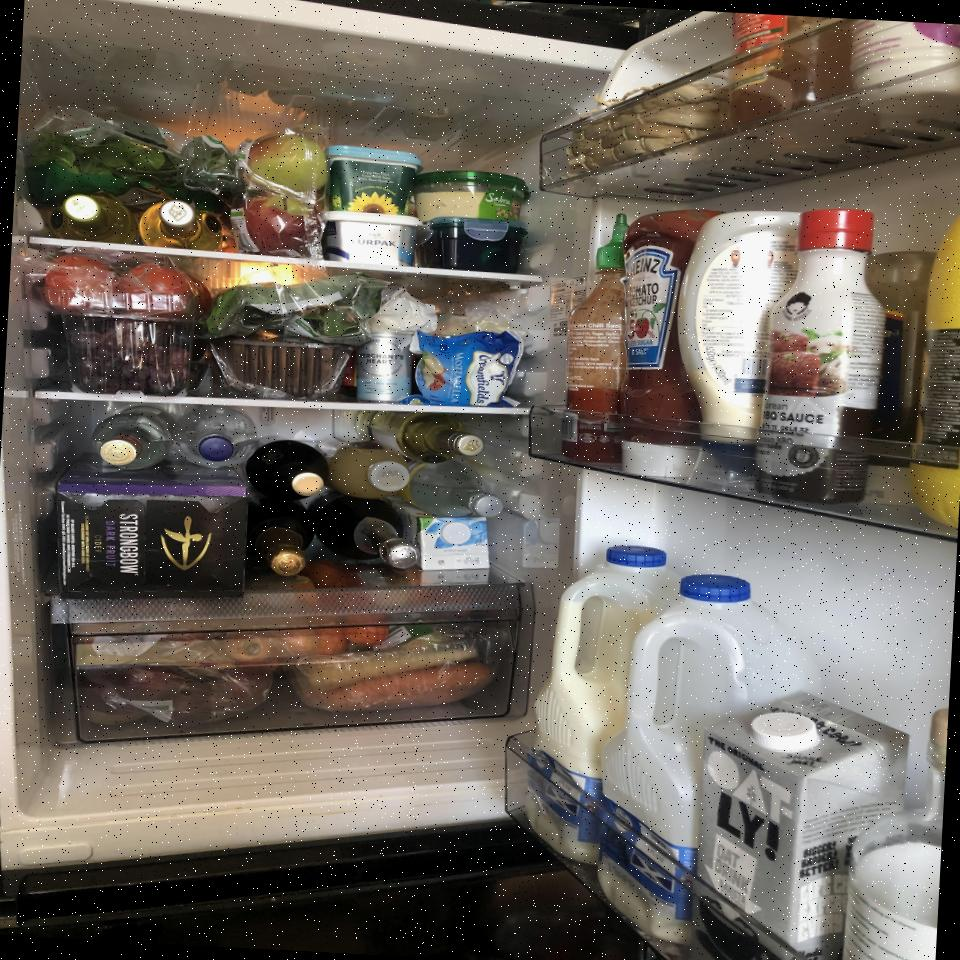Leche: (590, 570, 824, 948), (685, 687, 910, 960), (526, 542, 682, 868)
Manzana: (245, 131, 331, 199), (234, 195, 322, 259)
Tomate: (26, 250, 214, 321)
Zanahoria: (304, 654, 496, 718), (224, 625, 318, 666)
ketchup: (610, 206, 726, 477)
orange: (312, 623, 390, 658)
